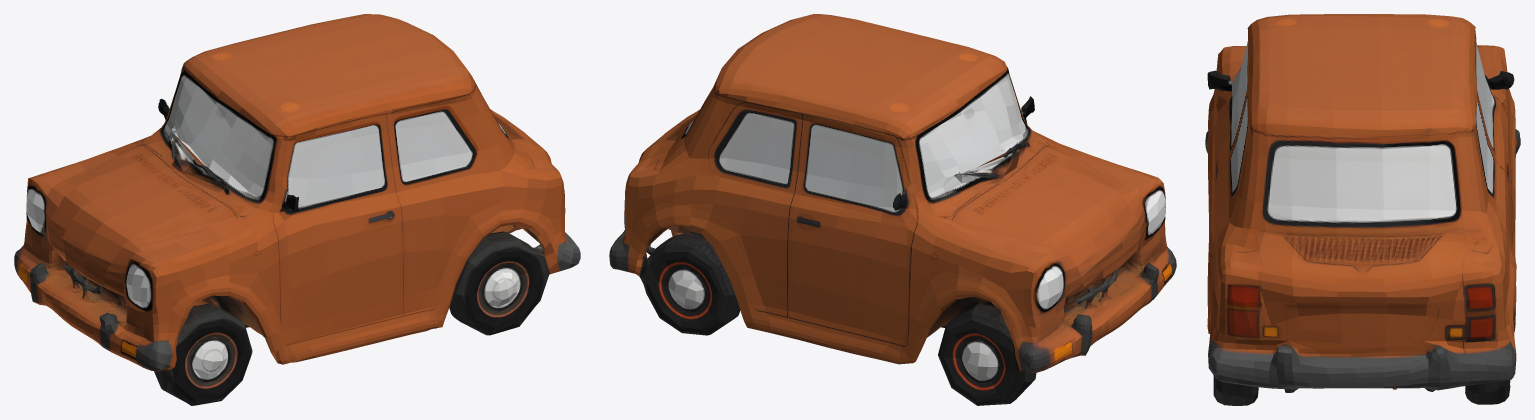
Rendered from Meshy_AI_Low_Poly_Old_Square_B_0519051338_texture.obj.
The picture shows the model from 3 angles, left to right: view 1: azimuth 30°, elevation 25°; view 2: azimuth 150°, elevation 25°; view 3: azimuth 270°, elevation 25°; orthographic projection. The views are drawn at different scales.
Visible parts, largest first — view 1: Meshy_AI_Low_Poly_Old_Square_B_0519051338_texture; view 2: Meshy_AI_Low_Poly_Old_Square_B_0519051338_texture; view 3: Meshy_AI_Low_Poly_Old_Square_B_0519051338_texture.
Part boxes in pixels (box(x1,y1,x2,y2)): Meshy_AI_Low_Poly_Old_Square_B_0519051338_texture: box(14, 14, 580, 405); Meshy_AI_Low_Poly_Old_Square_B_0519051338_texture: box(609, 14, 1176, 405); Meshy_AI_Low_Poly_Old_Square_B_0519051338_texture: box(1205, 14, 1520, 405).
Bounding box in the file's own units: 1.92 × 1 × 1.02.
1 material, 1 textured.
